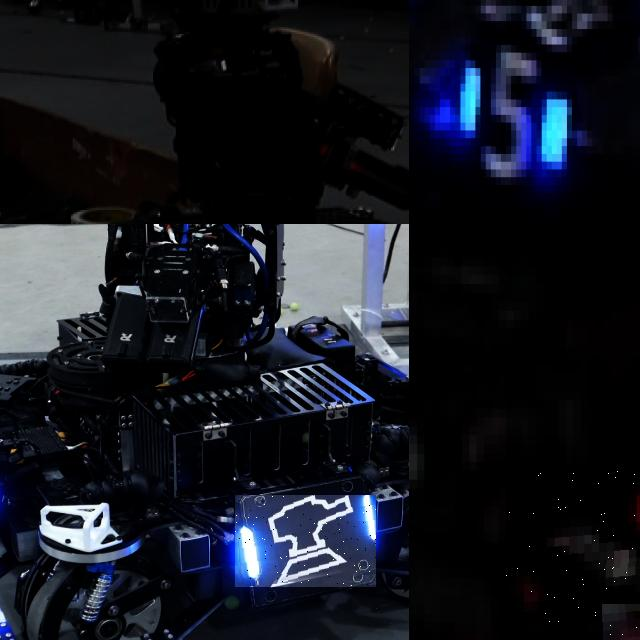B5: (448, 25, 570, 181)
Bs: (235, 496, 376, 588)
R3: (506, 471, 640, 622)
